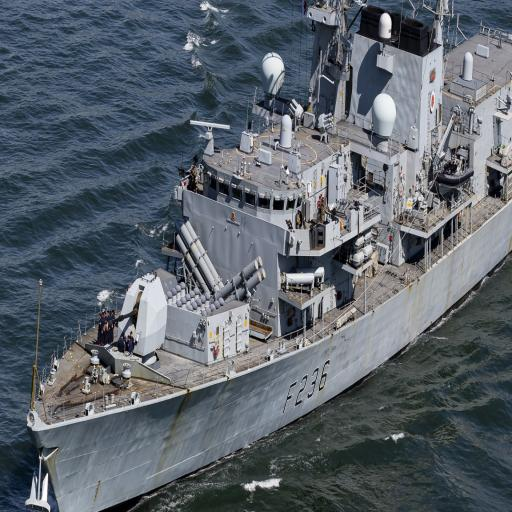Fragata: (1, 2, 358, 510)
